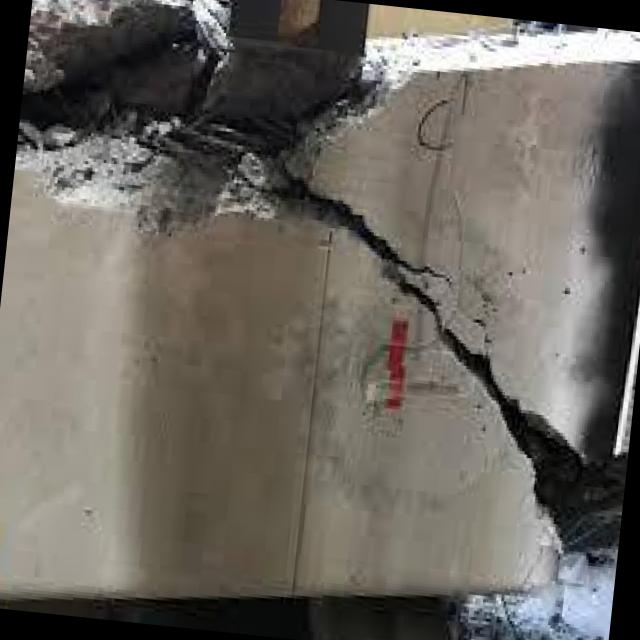crack: (15, 0, 624, 584)
